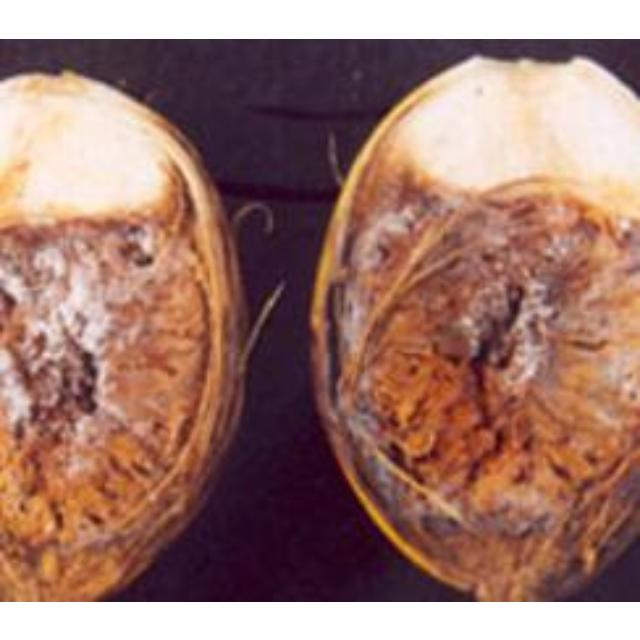damaged: (317, 56, 637, 599), (0, 69, 241, 599)
